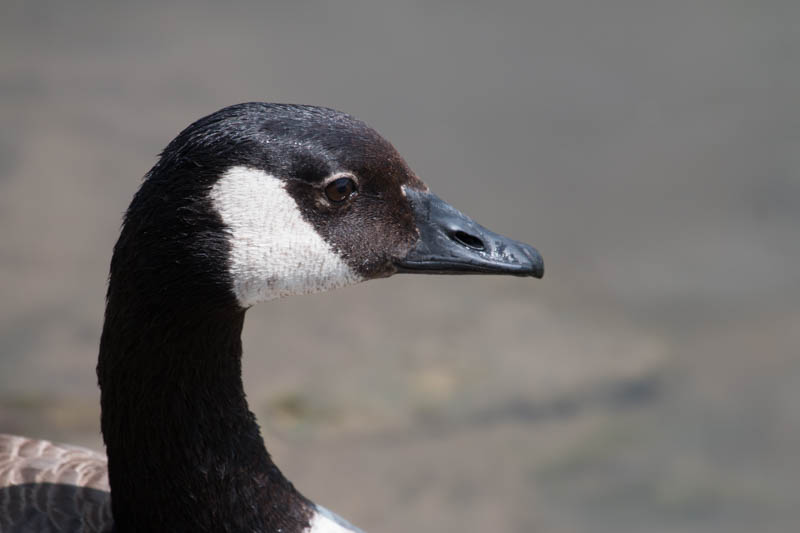goose-head: (106, 103, 546, 310)
